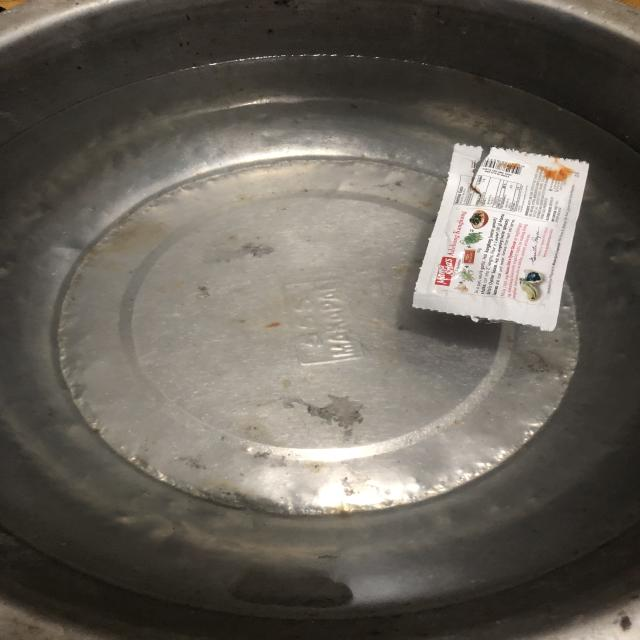Plastic Wrapper: (413, 134, 585, 334)
